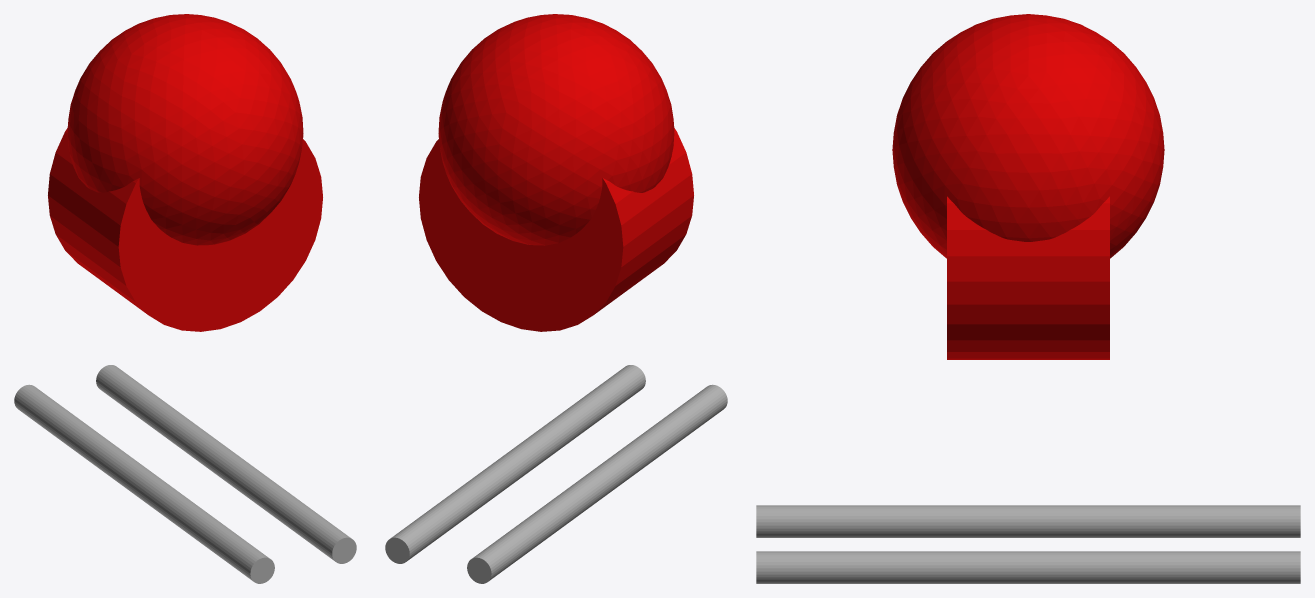
Rendered from led.glb.
The picture shows the model from 3 angles, left to right: view 1: azimuth 30°, elevation 25°; view 2: azimuth 150°, elevation 25°; view 3: azimuth 270°, elevation 25°; orthographic projection. The views are drawn at different scales.
Visible parts, largest first — view 1: geometry_1, geometry_0, geometry_2, geometry_3; view 2: geometry_1, geometry_0, geometry_2, geometry_3; view 3: geometry_1, geometry_0, geometry_2, geometry_3.
Part boxes in pixels (box(x1,y1,x2,y2)): geometry_1: box(67, 14, 303, 245); geometry_0: box(48, 128, 322, 331); geometry_2: box(96, 365, 356, 563); geometry_3: box(14, 384, 274, 583); geometry_1: box(438, 14, 674, 245); geometry_0: box(419, 128, 693, 331); geometry_2: box(385, 365, 645, 563); geometry_3: box(467, 384, 727, 583); geometry_1: box(892, 14, 1164, 258); geometry_0: box(947, 196, 1109, 359); geometry_2: box(756, 551, 1300, 583); geometry_3: box(756, 505, 1300, 537).
Bounding box in the file's own units: 0.5 × 1.08 × 1.
